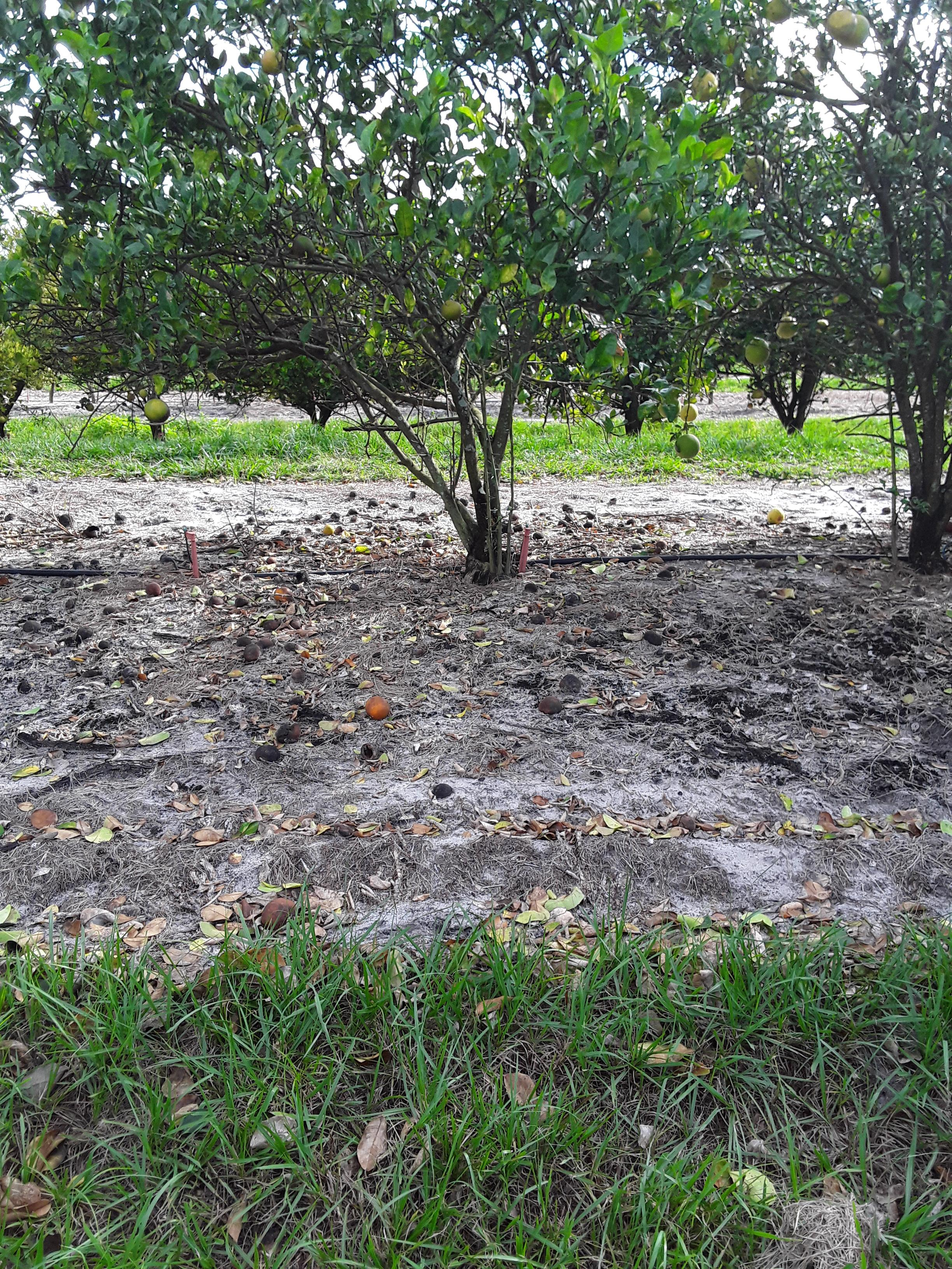fruit_on_ground: (828, 0, 865, 44), (682, 69, 724, 104), (737, 83, 779, 113), (733, 155, 772, 185), (742, 336, 774, 369), (139, 393, 170, 426), (761, 0, 798, 26), (850, 9, 874, 49), (626, 202, 662, 227), (868, 262, 897, 292), (259, 49, 284, 82), (774, 315, 803, 341), (709, 257, 733, 288), (657, 391, 683, 419), (290, 237, 317, 262), (789, 70, 812, 99), (674, 435, 701, 459), (436, 301, 466, 322), (680, 403, 700, 423), (750, 389, 770, 400)
fruit_on_tree: (260, 894, 292, 928), (672, 807, 701, 835), (362, 695, 392, 721), (34, 805, 59, 833), (272, 721, 302, 743), (560, 669, 583, 695), (255, 739, 280, 762), (528, 608, 550, 631), (118, 661, 142, 682), (537, 695, 558, 719), (429, 781, 457, 799), (56, 507, 77, 530), (641, 628, 665, 648), (768, 503, 788, 526), (20, 618, 46, 635), (74, 624, 98, 641), (242, 643, 262, 663), (146, 584, 165, 605), (362, 740, 380, 761), (563, 590, 581, 610), (64, 592, 82, 612), (456, 491, 473, 512), (289, 666, 310, 683), (18, 675, 34, 697), (206, 592, 225, 610), (288, 616, 306, 634), (84, 523, 103, 540), (261, 618, 280, 635), (91, 579, 111, 595), (523, 582, 544, 597), (98, 603, 120, 617), (21, 589, 40, 605), (273, 590, 289, 608), (232, 593, 250, 609), (282, 639, 301, 654), (291, 571, 311, 585), (755, 558, 774, 572), (657, 565, 676, 579), (507, 495, 522, 512), (631, 537, 646, 554), (285, 694, 306, 706), (652, 537, 668, 552), (470, 628, 487, 642), (109, 513, 128, 525), (214, 529, 229, 544), (349, 580, 363, 596), (97, 639, 114, 652), (603, 609, 621, 621), (257, 636, 275, 648), (365, 498, 380, 512), (557, 516, 572, 530), (581, 519, 602, 529), (320, 523, 335, 537), (755, 587, 770, 601), (85, 559, 104, 570), (70, 559, 86, 572), (0, 572, 13, 588), (3, 512, 20, 524), (245, 513, 259, 527), (511, 523, 530, 533), (510, 510, 524, 523), (313, 512, 327, 525), (231, 520, 245, 533), (421, 538, 436, 550), (266, 552, 278, 567), (241, 572, 256, 584), (238, 635, 253, 647), (633, 526, 648, 537), (530, 531, 550, 539), (330, 511, 344, 522), (413, 645, 427, 656), (278, 527, 293, 537), (406, 491, 420, 501), (391, 521, 400, 536), (565, 505, 577, 516), (147, 539, 160, 549), (296, 534, 308, 544), (349, 507, 359, 518), (389, 502, 401, 511), (420, 510, 432, 519), (523, 575, 533, 585), (348, 490, 359, 498), (562, 504, 571, 512)
